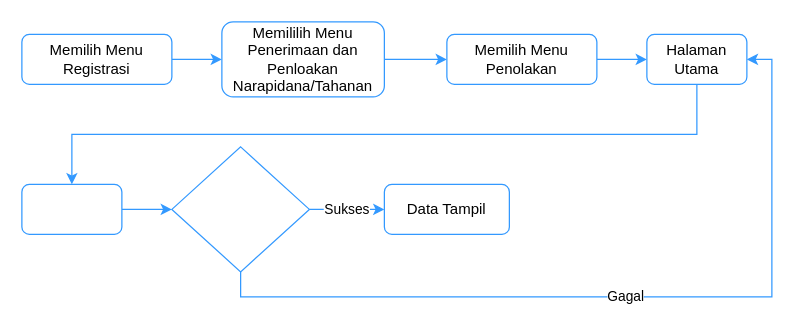
This 804x329 diagram has some shape labels left out. Here are the shapes that lost their labels. From the top down, the box of each, then its label:
(21, 183, 122, 234): Lihat
(171, 146, 309, 272): Proses Menampilkan Data
